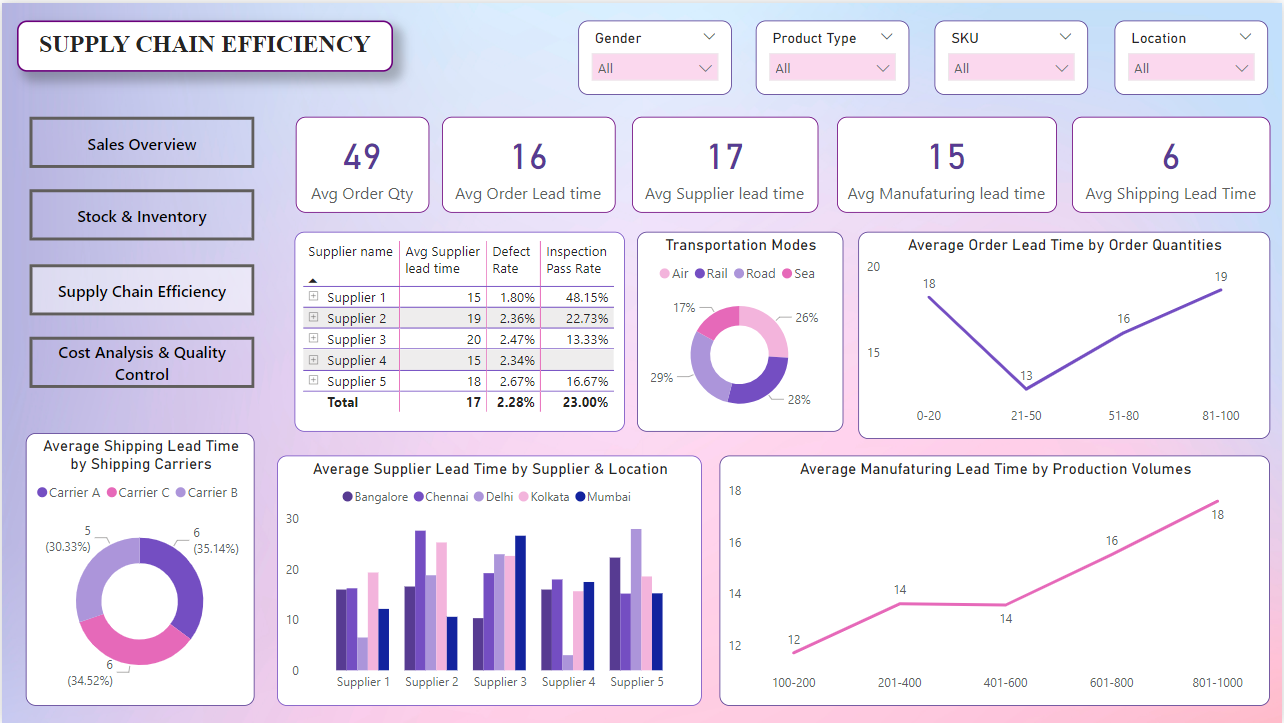

This screenshot's page, from the dashboard's own definition file:
{"tool":"powerbi","page":{"name":"Supply Chain Efficiency","canvas":[1280,720],"ordinal":2},"visuals":[{"type":"clusteredColumnChart","title":"Average Supplier Lead Time by Supplier & Location","fields":{"Category":["Supply Chain.Supplier name"],"Y":["measures (2).Avg Supplier lead time"],"Series":["Supply Chain.Location"]},"box":[275,452.5,425,250],"z":0},{"type":"donutChart","title":"Average Shipping Lead Time by Shipping Carriers","fields":{"Category":["Supply Chain.Shipping carriers"],"Y":["measures (2).Avg Shipping Lead Time"]},"box":[23.3,429.5,229.2,273.1],"z":1000},{"type":"lineChart","title":"Average Order Lead Time by Order Quantities","fields":{"Y":["measures (2).Avg Order Lead time"],"Category":["Supply Chain.Ordered Quantity"]},"box":[856.3,229.2,411.7,207.2],"z":2000},{"type":"lineChart","title":"Average Manufaturing Lead Time by Production Volumes","fields":{"Y":["measures (2).Avg Manufaturing lead time"],"Category":["Supply Chain.Production Volume"]},"box":[717.3,452,550.7,250.7],"z":3000},{"type":"pivotTable","fields":{"Rows":["Supply Chain.Supplier name","Supply Chain.Product type"],"Values":["measures (2).Avg Supplier lead time","measures (2).Defect Rate","measures (2).Inspection Pass Rate"]},"box":[292.5,228.8,330,200],"z":4000},{"type":"donutChart","title":"Transportation Modes","fields":{"Category":["Supply Chain.Transportation modes"],"Y":["CountNonNull(Supply Chain.SKU)"]},"box":[635,228.8,206.2,200],"z":5000},{"type":"card","fields":{"Values":["measures (2).Avg Order Qty"]},"box":[293.8,113.8,133.8,96.2],"z":6000},{"type":"card","fields":{"Values":["measures (2).Avg Order Lead time"]},"box":[440,113.8,173.8,96.2],"z":7000},{"type":"card","fields":{"Values":["measures (2).Avg Supplier lead time"]},"box":[630,113.8,186.2,96.2],"z":8000},{"type":"card","fields":{"Values":["measures (2).Avg Manufaturing lead time"]},"box":[835,113.8,220,96.2],"z":9000},{"type":"card","fields":{"Values":["measures (2).Avg Shipping Lead Time"]},"box":[1070,113.8,198.8,96.2],"z":10000},{"type":"actionButton","box":[27.5,186.2,225,51.2],"z":11000},{"type":"actionButton","box":[27.5,113.8,225,51.2],"z":12000},{"type":"actionButton","box":[27.5,261.2,225,51.2],"z":13000},{"type":"actionButton","box":[27.5,333.8,225,51.2],"z":14000},{"type":"textbox","box":[15,17.5,376.2,51.2],"z":15000},{"type":"slicer","fields":{"Values":["Supply Chain.Customer Gender"]},"box":[576.3,17.8,153.7,74.1],"z":16000},{"type":"slicer","fields":{"Values":["Supply Chain.Product type"]},"box":[753.3,17.8,153.7,74.1],"z":17000},{"type":"slicer","fields":{"Values":["Supply Chain.SKU"]},"box":[933.1,17.8,153.7,74.1],"z":18000},{"type":"slicer","fields":{"Values":["Supply Chain.Location"]},"box":[1112.9,17.8,153.7,74.1],"z":19000}]}

Visuals, with their boxes in screenshot pixels (x1, y1, x2, y2), scaled from the page's 1280x720 canvas onto the 1284x723 screenshot:
"Average Supplier Lead Time by Supplier & Location" clusteredColumnChart: box=[276, 454, 702, 705]
"Average Shipping Lead Time by Shipping Carriers" donutChart: box=[23, 431, 253, 706]
"Average Order Lead Time by Order Quantities" lineChart: box=[859, 230, 1272, 438]
"Average Manufaturing Lead Time by Production Volumes" lineChart: box=[720, 454, 1272, 706]
pivotTable - Supply Chain.Supplier name x Supply Chain.Product type: box=[293, 230, 624, 431]
"Transportation Modes" donutChart: box=[637, 230, 844, 431]
card - measures (2).Avg Order Qty: box=[295, 114, 429, 211]
card - measures (2).Avg Order Lead time: box=[441, 114, 616, 211]
card - measures (2).Avg Supplier lead time: box=[632, 114, 819, 211]
card - measures (2).Avg Manufaturing lead time: box=[838, 114, 1058, 211]
card - measures (2).Avg Shipping Lead Time: box=[1073, 114, 1273, 211]
actionButton: box=[28, 187, 253, 238]
actionButton: box=[28, 114, 253, 166]
actionButton: box=[28, 262, 253, 314]
actionButton: box=[28, 335, 253, 387]
textbox: box=[15, 18, 392, 69]
slicer - Supply Chain.Customer Gender: box=[578, 18, 732, 92]
slicer - Supply Chain.Product type: box=[756, 18, 910, 92]
slicer - Supply Chain.SKU: box=[936, 18, 1090, 92]
slicer - Supply Chain.Location: box=[1116, 18, 1271, 92]
